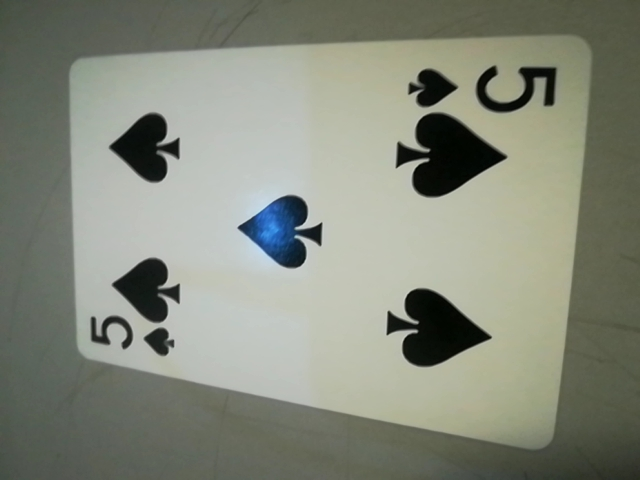ht 5: (401, 58, 575, 121)
